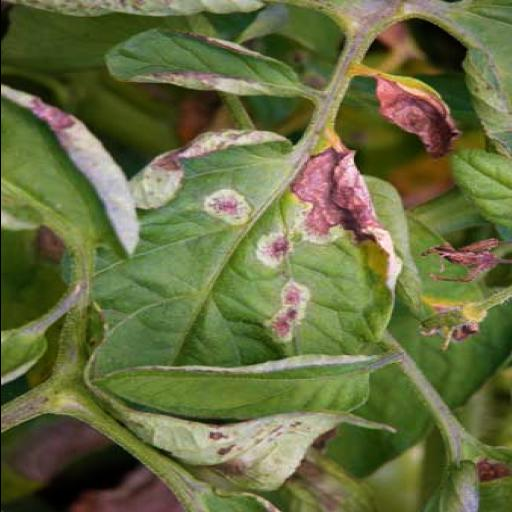Late Blight: (86, 123, 414, 488), (0, 84, 143, 260), (100, 24, 308, 98), (365, 70, 461, 160)
